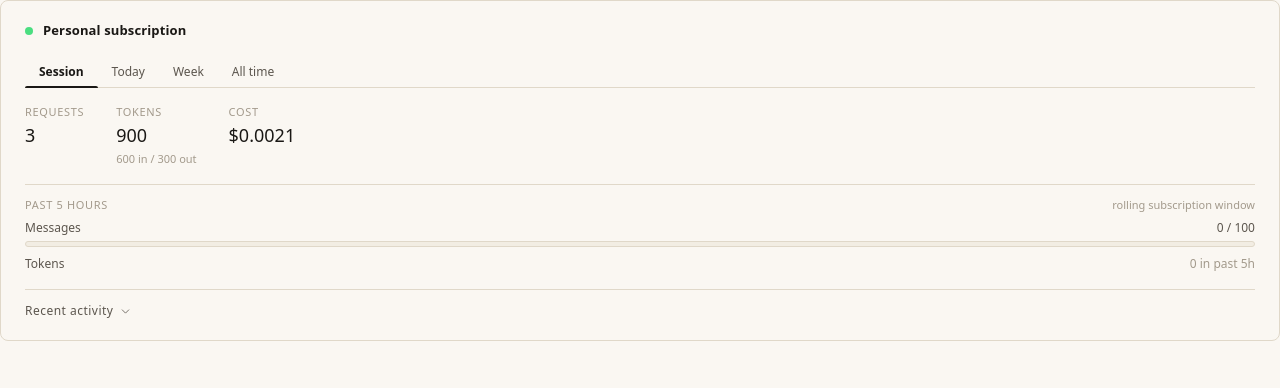
Test: PersonalUsageTile — recent activity › shows "No recent activity" when event list is empty
Click the button "Recent activity" at (79, 311), box [25, 302, 132, 320]
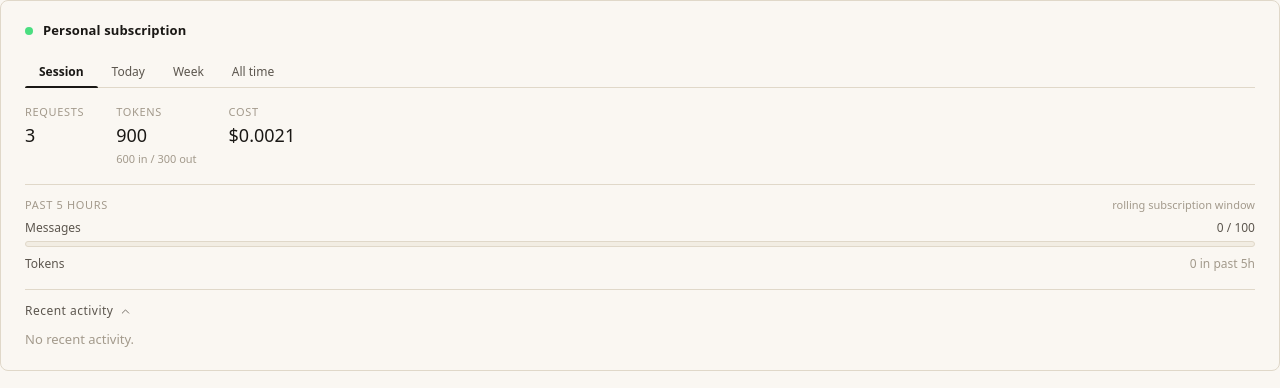
Expected: the text "No recent activity." is shown, [25, 330, 134, 348]
